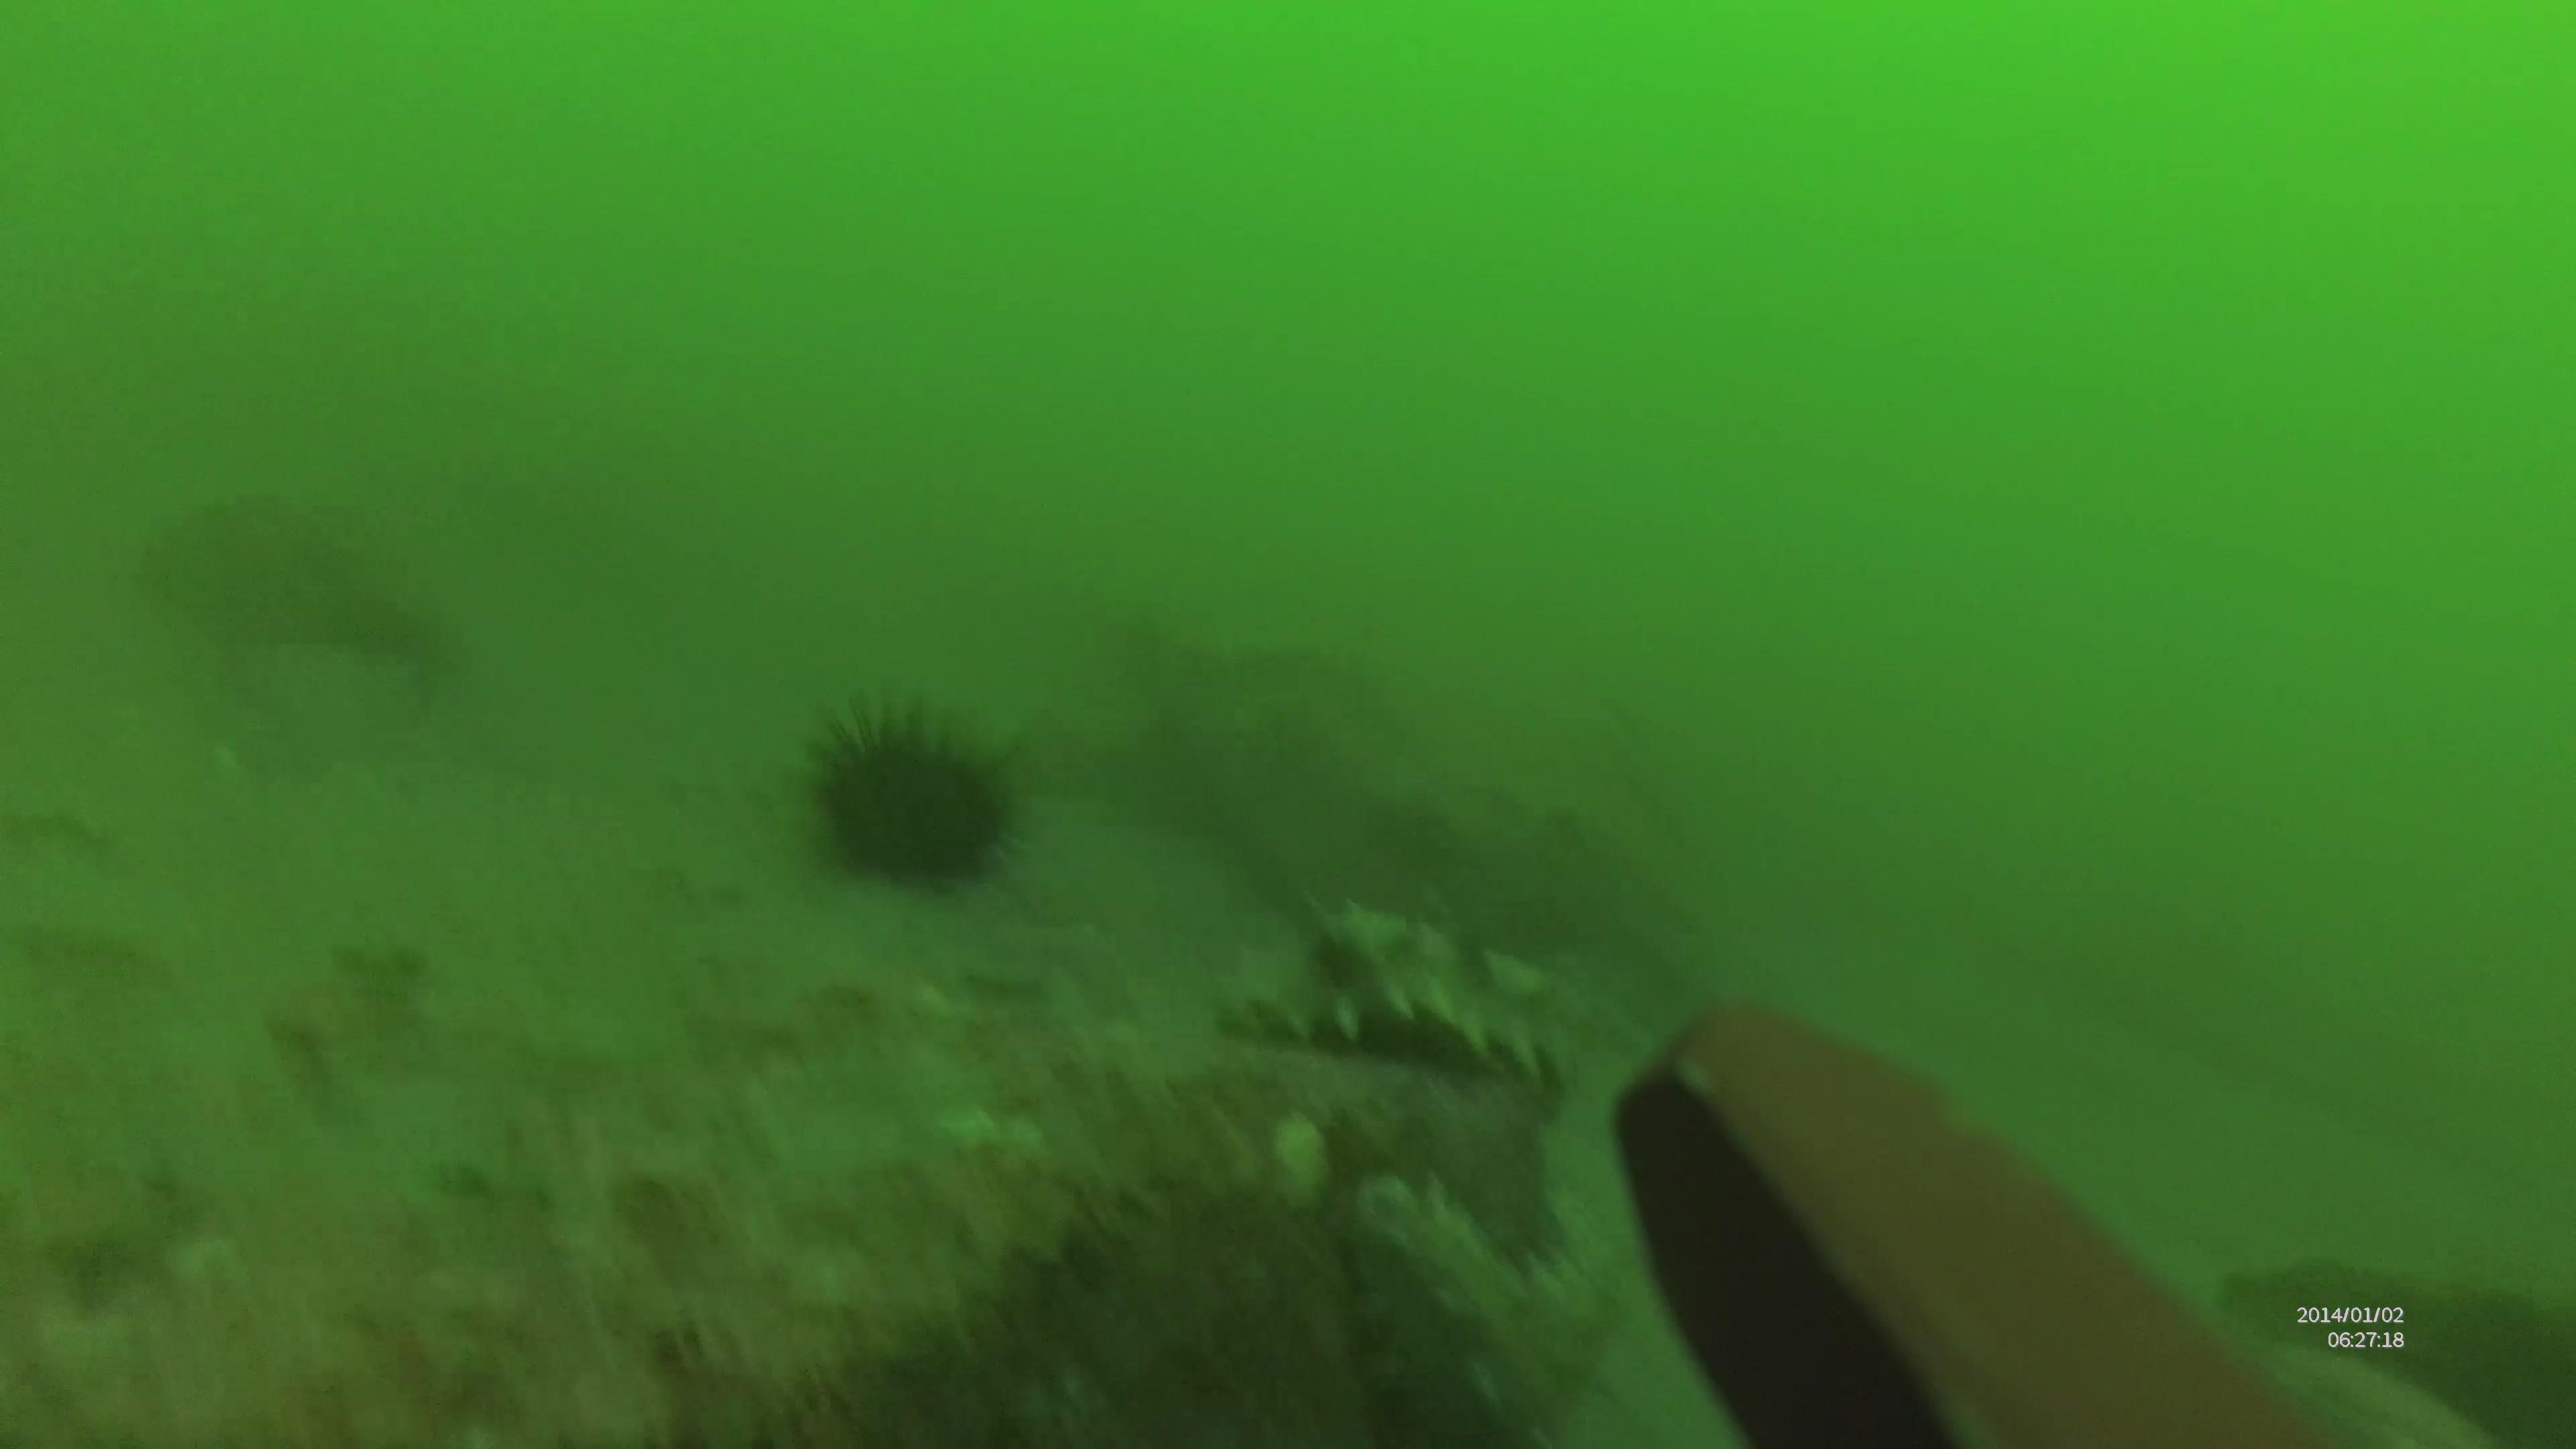echinus: (794, 695, 1037, 904)
holothurian: (1230, 901, 1580, 1090), (1350, 1171, 1621, 1412)
